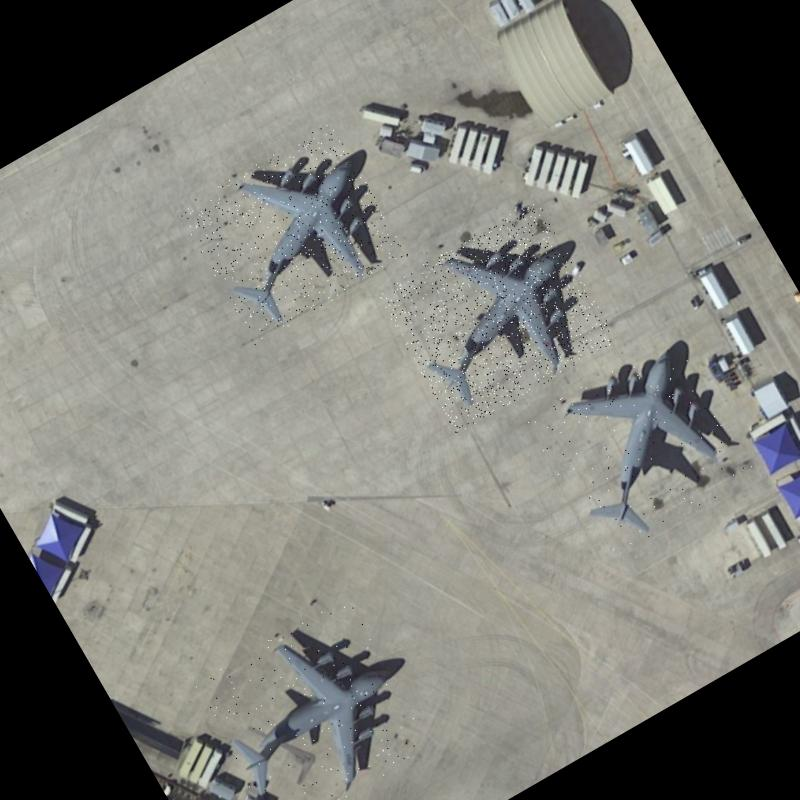A3: (374, 198, 618, 434), (523, 330, 759, 563), (177, 121, 409, 345), (190, 595, 435, 800)
